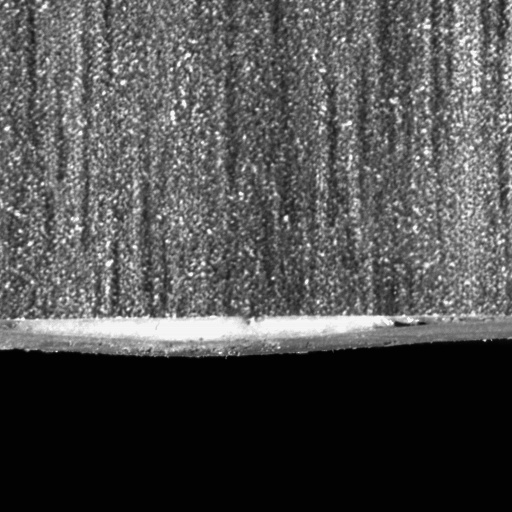kaijiao: (0, 312, 511, 359)
